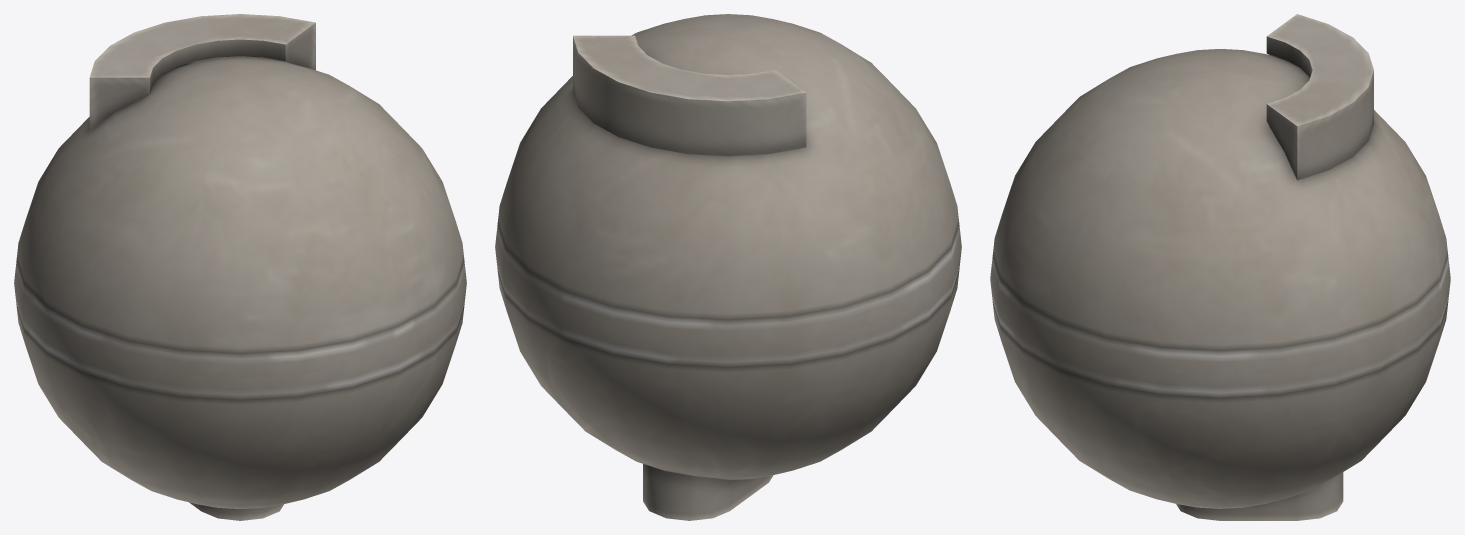
The model's file is 1f_fuel_tank_srf_1_alternate.obj.
3 views of the same model, side by side, from view 1: azimuth 30°, elevation 25°; view 2: azimuth 150°, elevation 25°; view 3: azimuth 270°, elevation 25° (orthographic). The views are drawn at different scales.
Visible parts, largest first — view 1: mesh1; view 2: mesh1; view 3: mesh1.
Part boxes in pixels (x1,y1,x2,y2): mesh1: (14, 14, 466, 520); mesh1: (495, 14, 961, 520); mesh1: (990, 14, 1450, 520).
Bounding box in the file's own units: 0.375 × 0.3875 × 0.375.
Materials: 1 (1 with a texture image).
